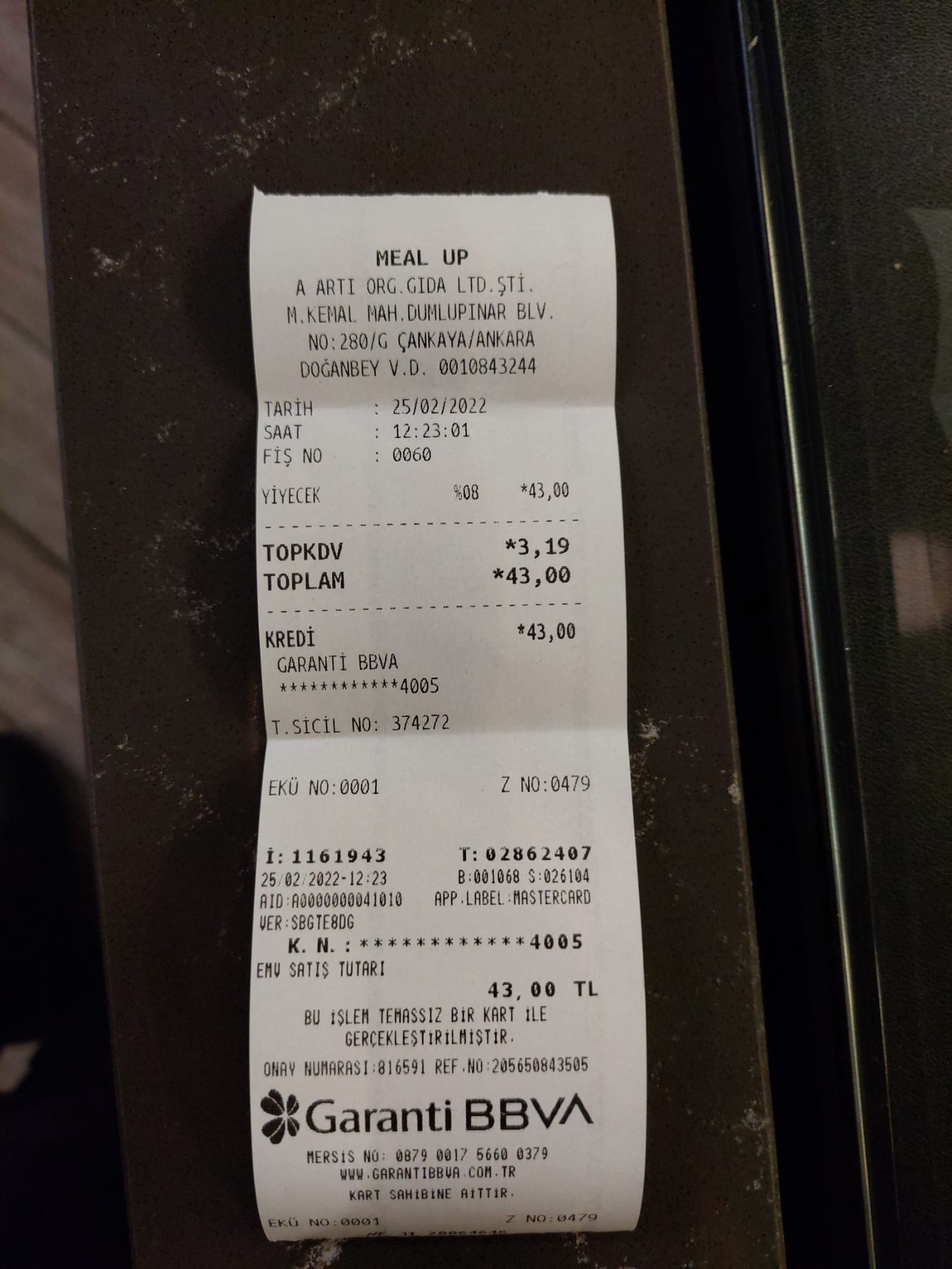date: (500, 561, 591, 590)
price: (385, 393, 495, 418)
workplace: (277, 240, 570, 353)
